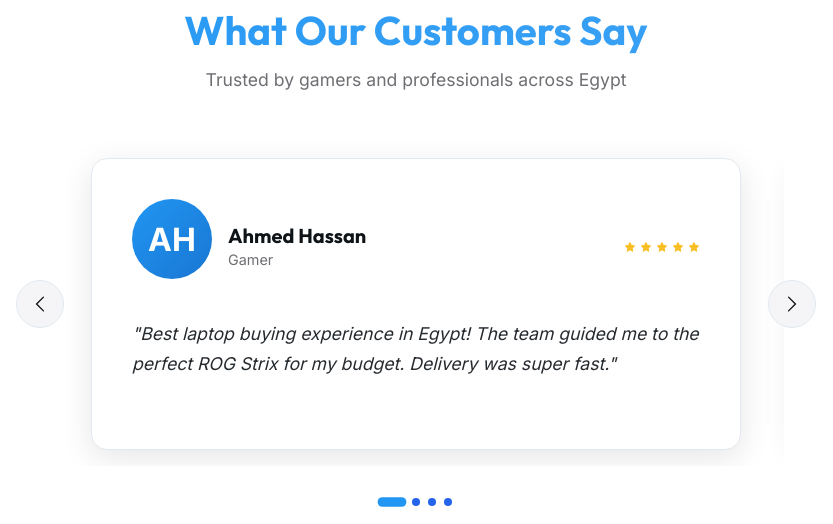
Testimonials Component › should change testimonial when next/prev clicked
Expected: the heading "Ahmed Hassan" is shown, [228,223,366,248]
Step 1. Click the button named "Next Review" → (792, 304), box [768,280,816,328]
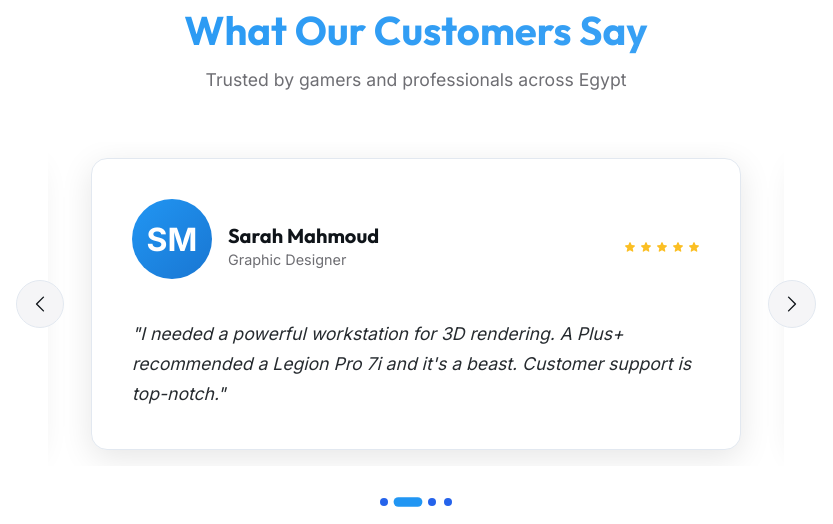
Now the heading "Sarah Mahmoud" is shown, box [228,223,379,248]
Step 2. Click the button named "Previous Review" → (40, 304), box [16,280,64,328]
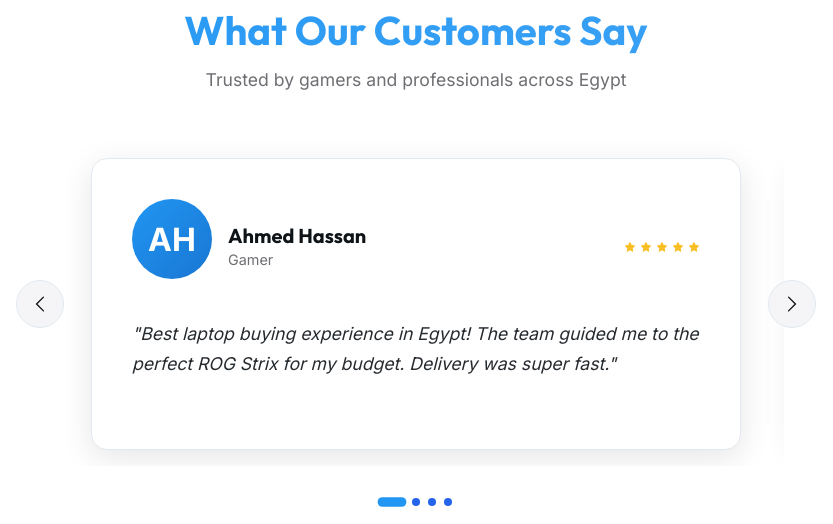
Now the heading "Ahmed Hassan" is shown, box [228,223,366,248]
Step 3. Click the button named "Previous Review" → (40, 304), box [16,280,64,328]
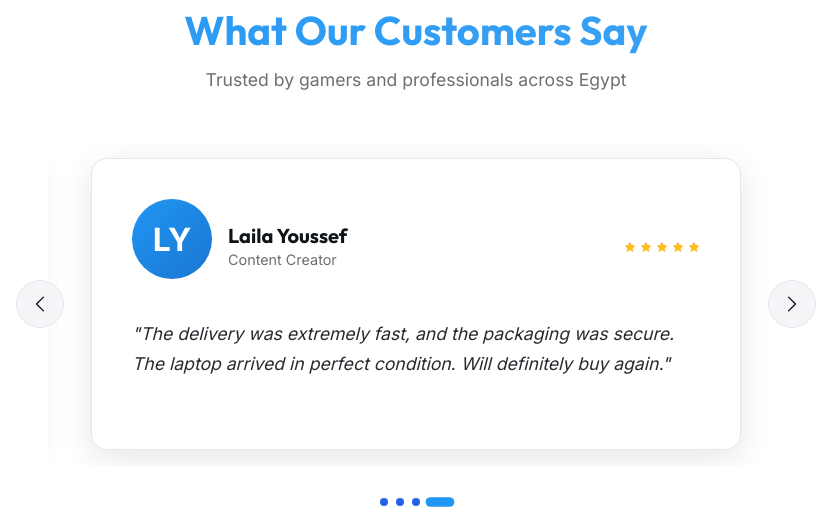
Now the heading "Laila Youssef" is shown, box [228,223,348,248]
